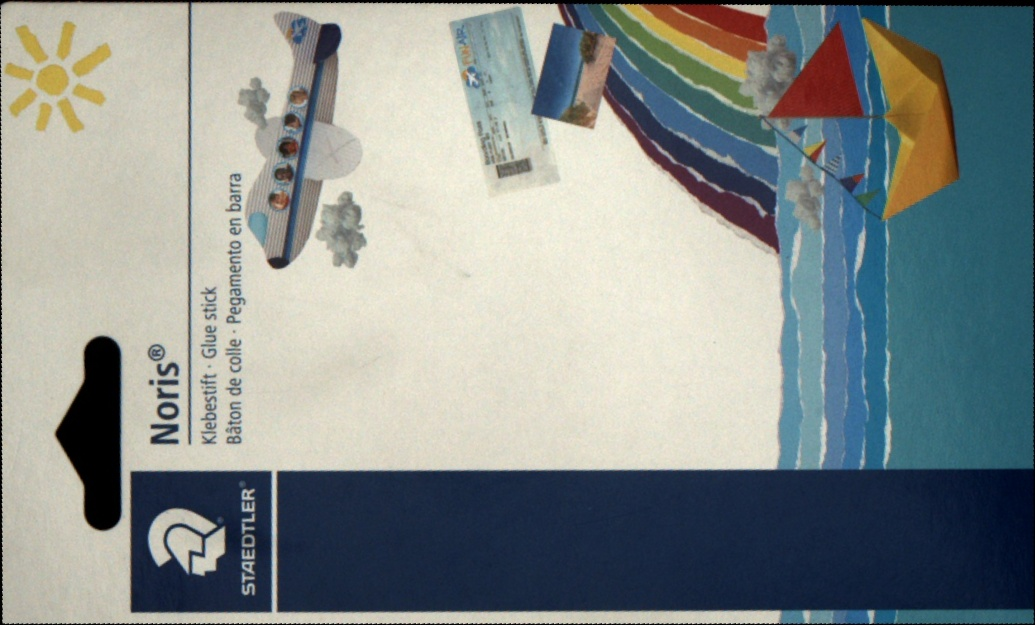scratch: (371, 197, 479, 282), (308, 130, 361, 177)
